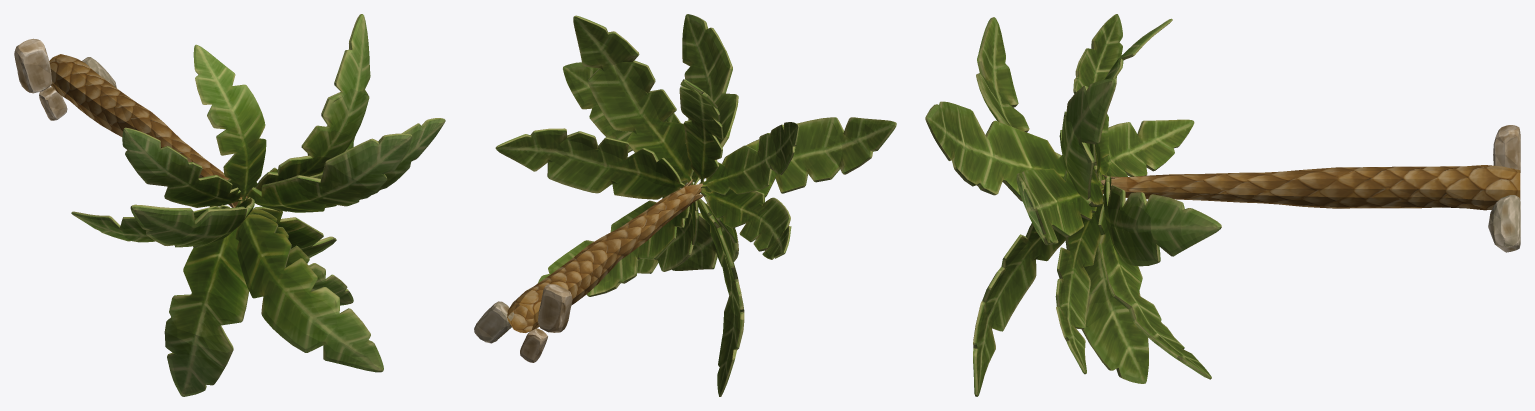
The model's file is Palma.obj.
3 renders of one model, left to right at view 1: azimuth 30°, elevation 25°; view 2: azimuth 150°, elevation 25°; view 3: azimuth 270°, elevation 25°, orthographic. The views are drawn at different scales.
Parts seen in each view (by area): view 1: Object.1; view 2: Object.1; view 3: Object.1.
Boxes of the visible parts, x1,y1,x2,y2 form: Object.1: [14, 14, 445, 396]; Object.1: [474, 14, 896, 396]; Object.1: [925, 14, 1520, 396].
Size of the model in its own units: 105 by 106 by 144.
1 material, 1 textured.
